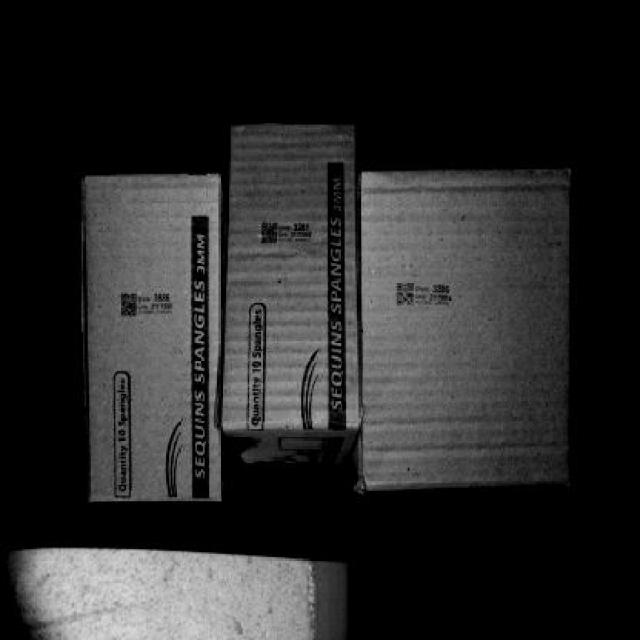cardboxes: (363, 169, 569, 486), (82, 172, 227, 486), (224, 121, 361, 437), (225, 502, 226, 503)
